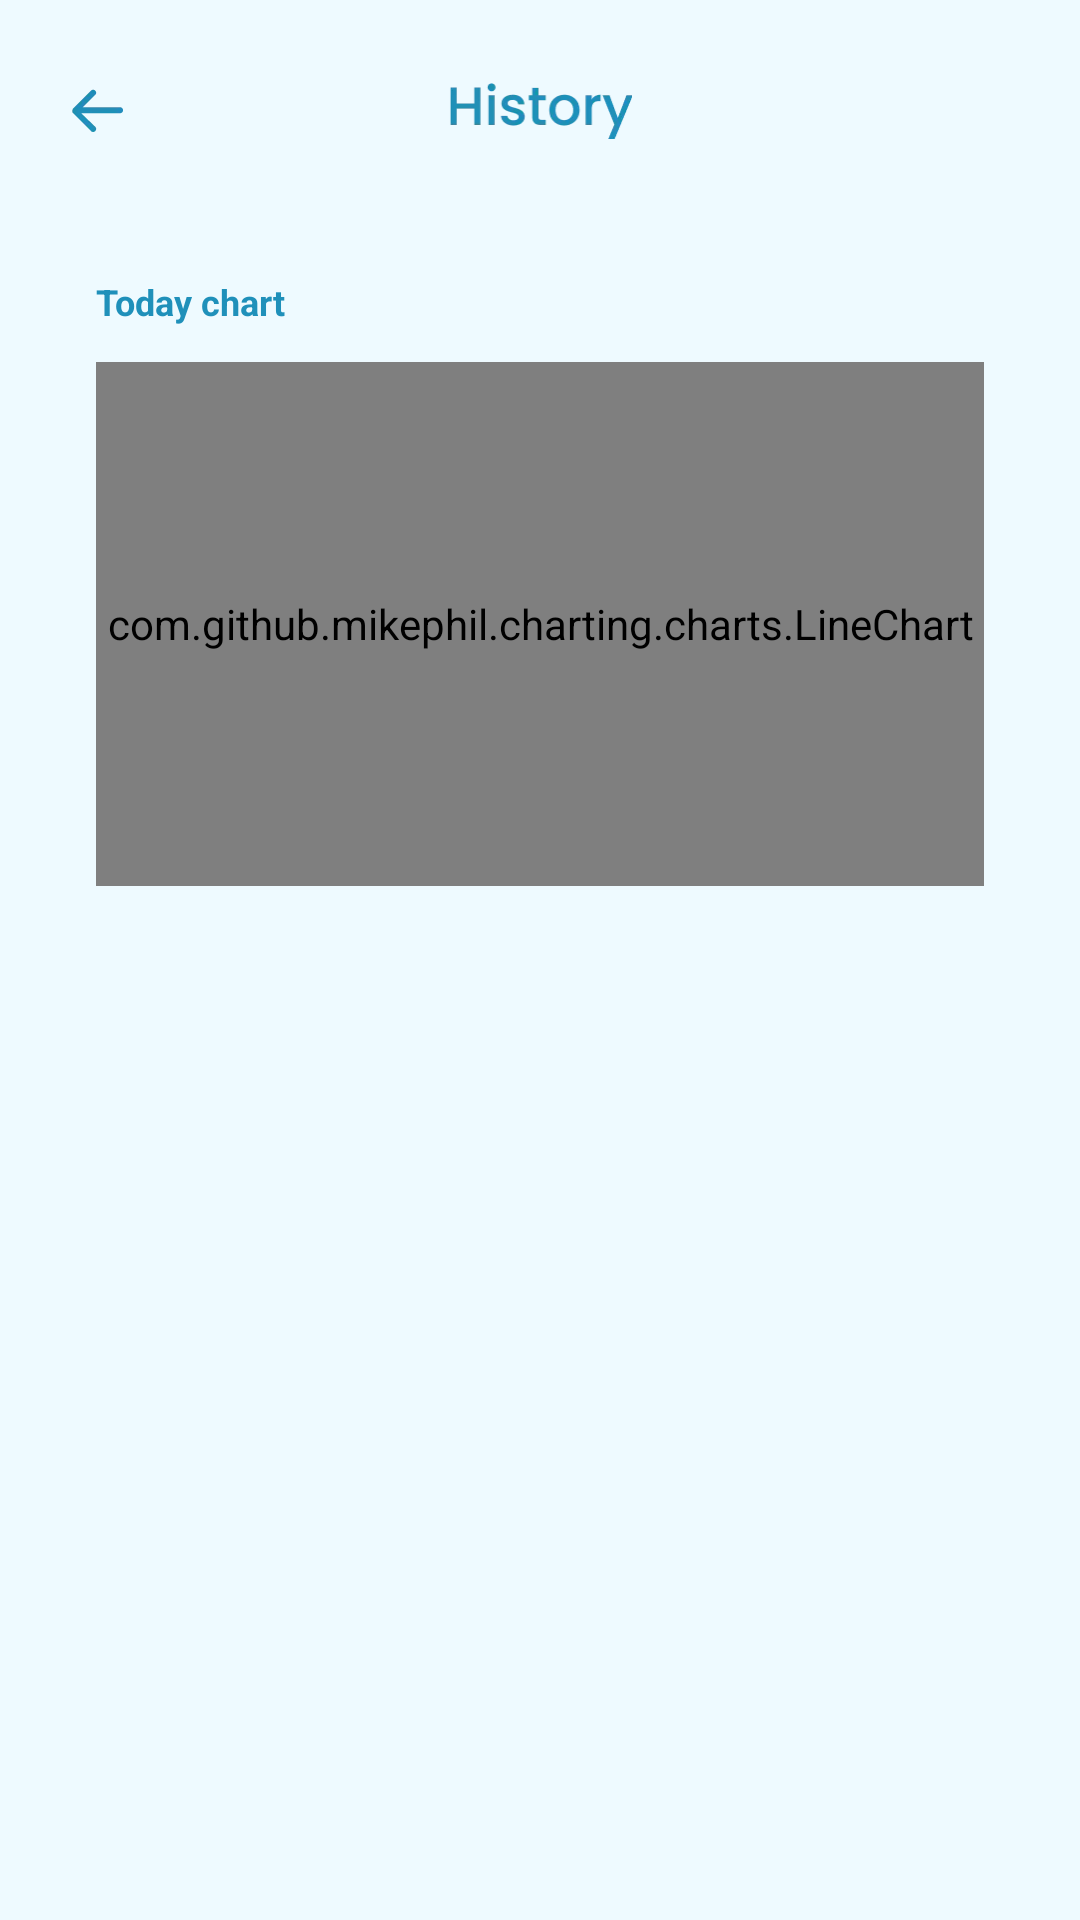

Point at icon controls on the screen. Image size 1080w x 1920h, points as point (x, y).
back: point (97, 110)
